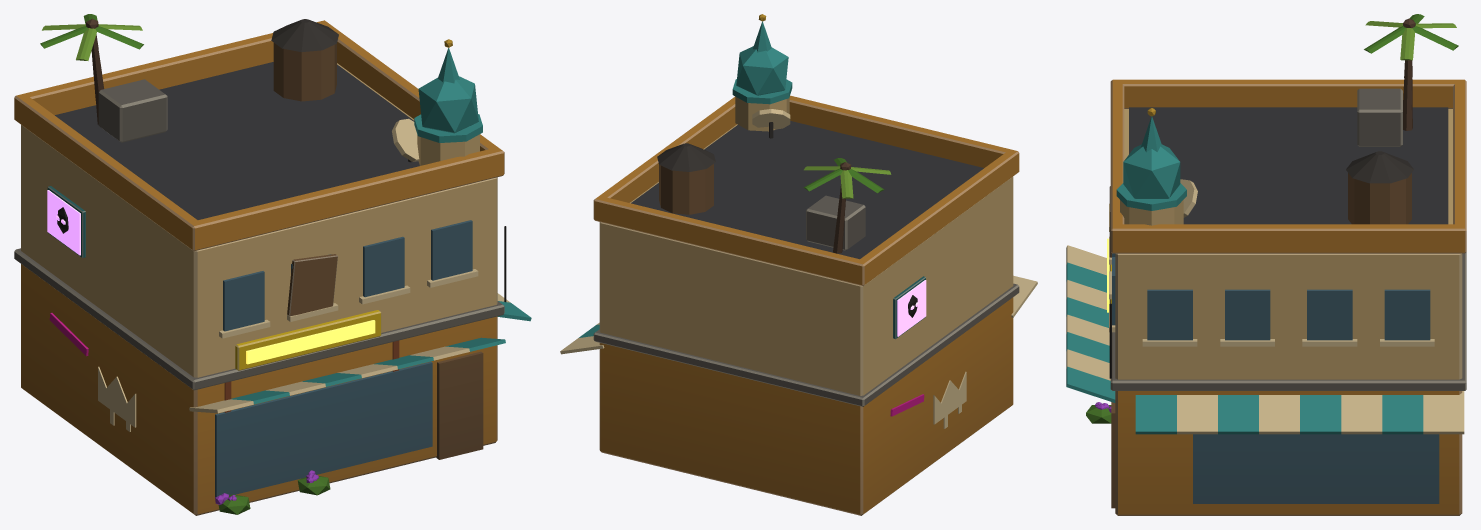
File: n_shop_chunks.glb
3 views of the same model, side by side, from view 1: azimuth 30°, elevation 25°; view 2: azimuth 150°, elevation 25°; view 3: azimuth 270°, elevation 25° (orthographic). The views are drawn at different scales.
Visible parts, largest first — view 1: chunk_1, chunk_3, chunk_0, chunk_2; view 2: chunk_1, chunk_3, chunk_0, chunk_2; view 3: chunk_3, chunk_2, chunk_1, chunk_0.
Part boxes in pixels (box(x1,y1,x2,y2)): chunk_1: box(14, 14, 335, 383); chunk_3: box(165, 19, 506, 363); chunk_0: box(14, 242, 354, 515); chunk_2: box(332, 293, 531, 481); chunk_1: box(728, 123, 1019, 387); chunk_3: box(593, 14, 903, 361); chunk_0: box(722, 275, 1037, 515); chunk_2: box(560, 322, 728, 481); chunk_3: box(1066, 108, 1466, 395); chunk_2: box(1066, 307, 1466, 515); chunk_1: box(1107, 14, 1466, 280); chunk_0: box(1066, 245, 1466, 423).
Bounding box in the file's own units: 8.94 × 9.52 × 8.77.
